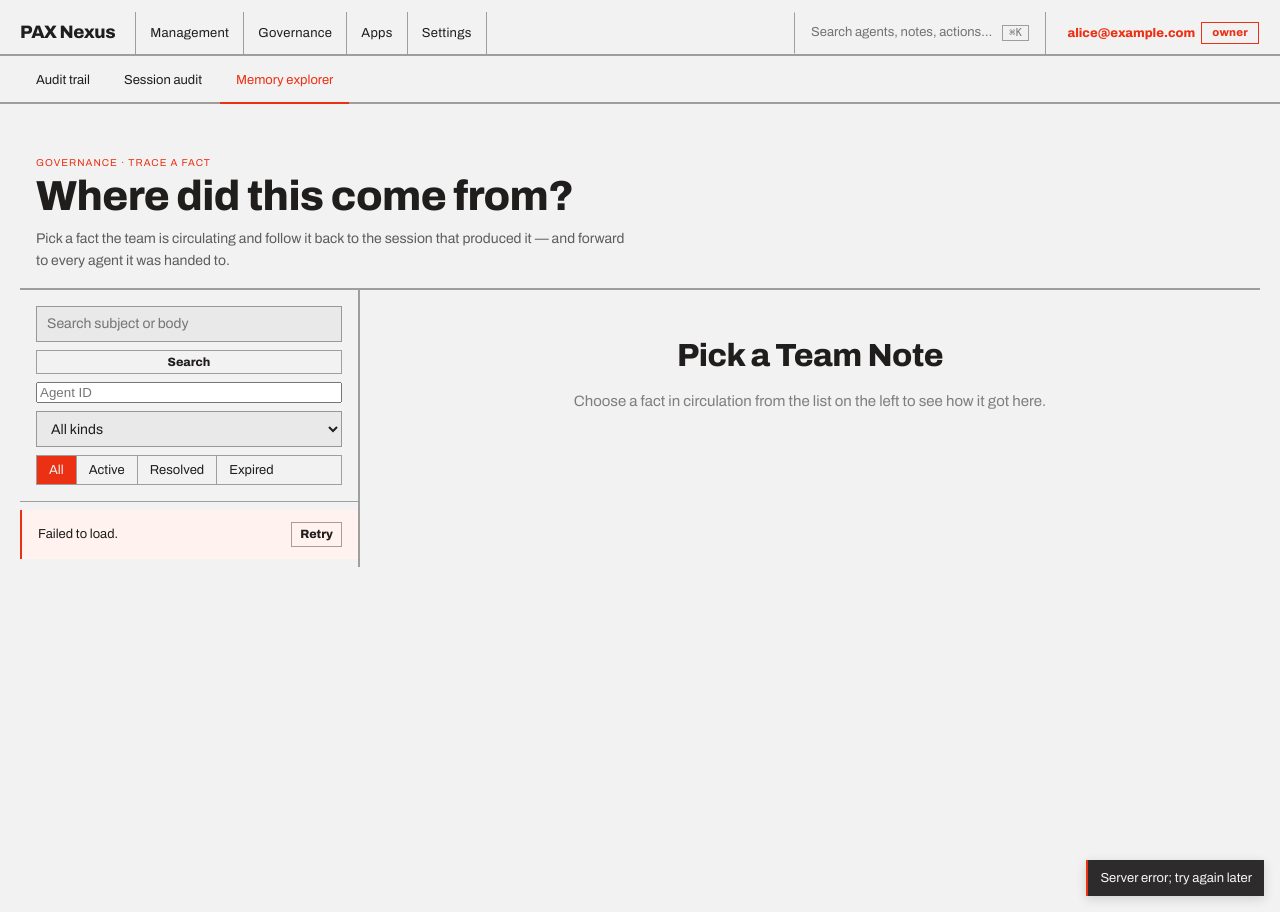
Test: Governance · Memory explorer — 左栏骨架 › 左栏取数失败时塌成可重试错误
The image size is (1280, 912).
Check: the text "Failed to load." is shown, box [38,524,118,544]
Step 1. Click the button "Retry" → (317, 534), box [291,522,342,547]
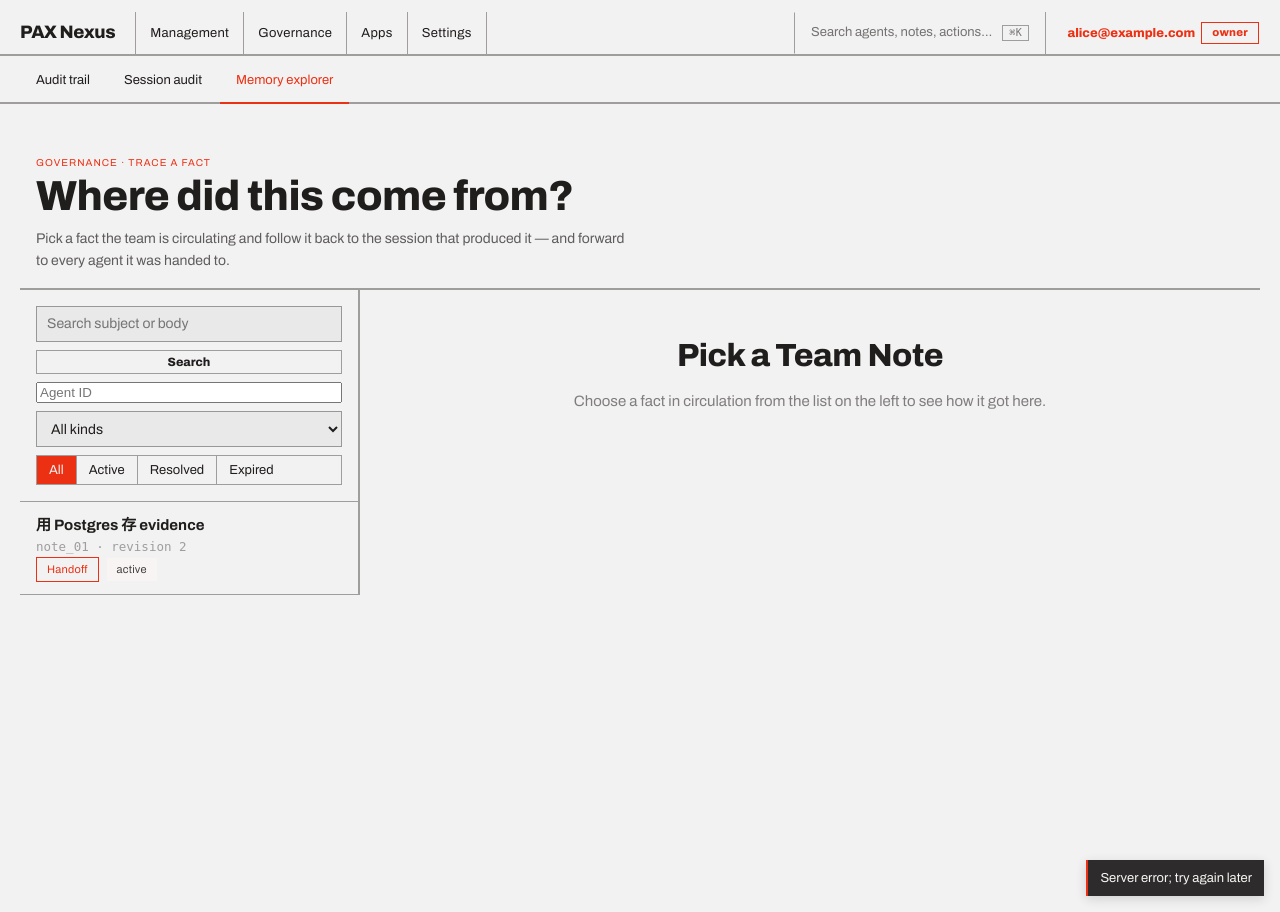
Check: the link "用 Postgres 存 evidence note_01 · revision 2 Handoff active" is shown, box [20,502,358,595]
